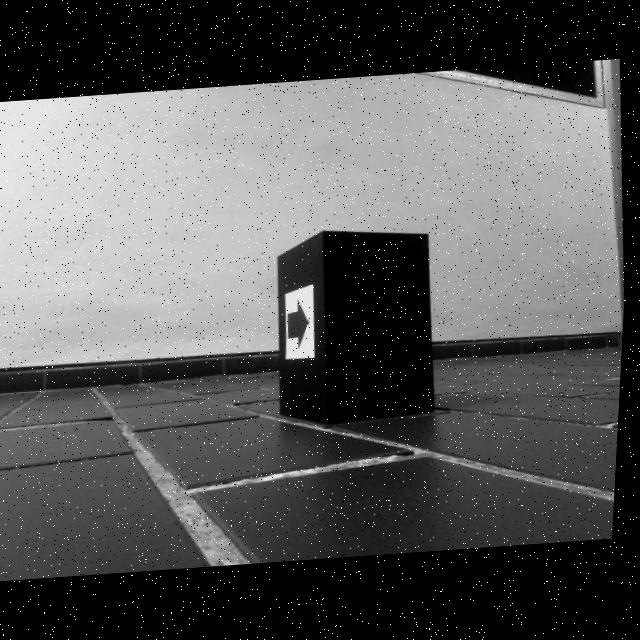RIGHT: (290, 300, 311, 348)
